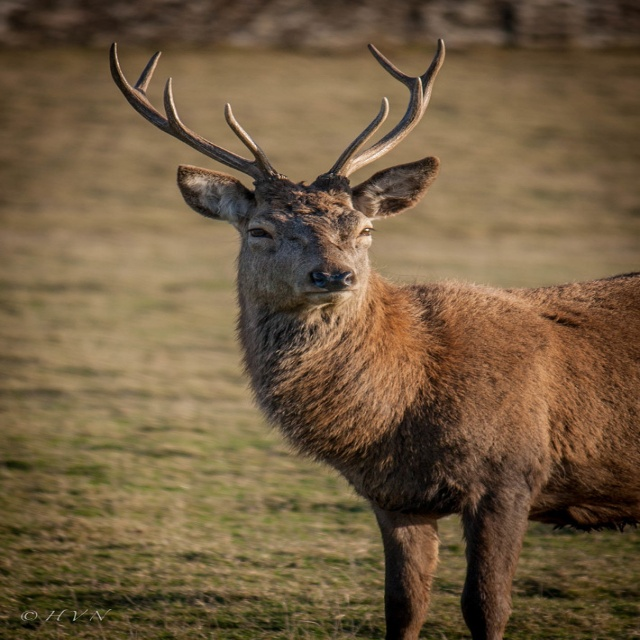Deer: (110, 44, 633, 635)
